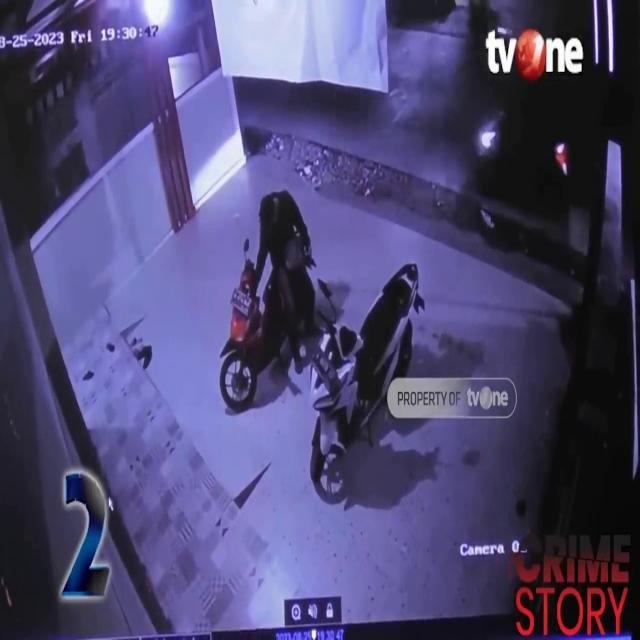pencurian: (218, 188, 320, 400)
